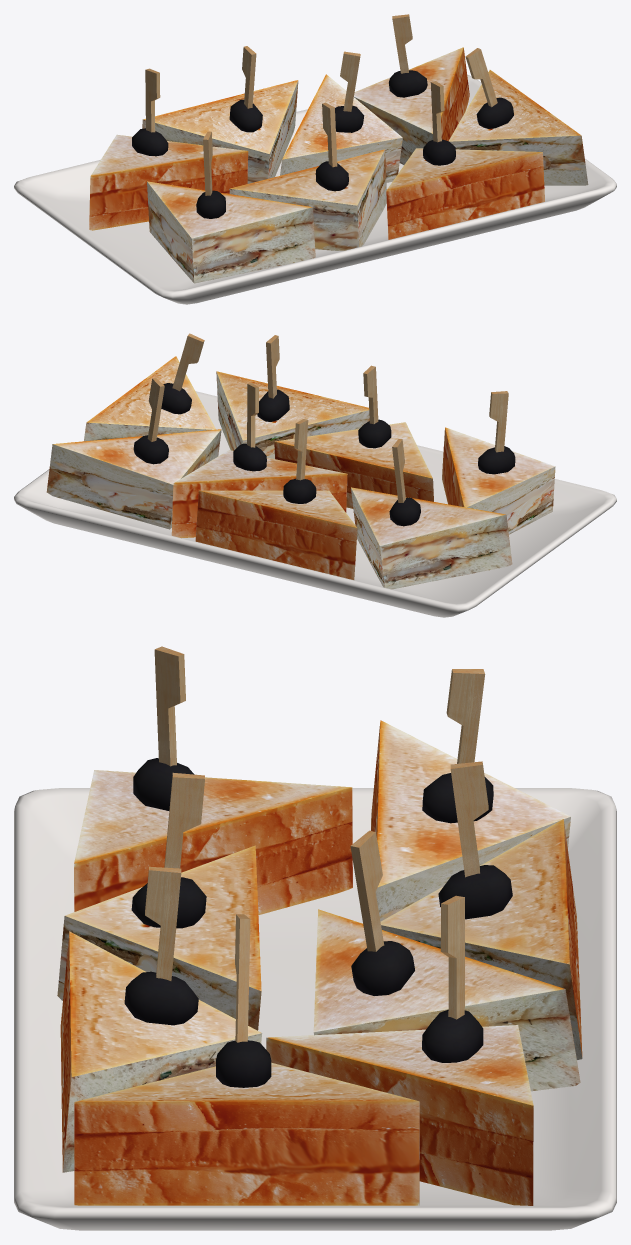
The model's file is BuffetSnacks01_1.FBX.
3 renders of one model, top to bottom at view 1: azimuth 30°, elevation 25°; view 2: azimuth 150°, elevation 25°; view 3: azimuth 270°, elevation 25°, orthographic. The views are drawn at different scales.
Parts seen in each view (by area): view 1: BuffetSnacks01_1; view 2: BuffetSnacks01_1; view 3: BuffetSnacks01_1.
Part boxes in pixels (box(x1,y1,x2,y2)): BuffetSnacks01_1: box(14, 14, 616, 304); BuffetSnacks01_1: box(14, 333, 616, 617); BuffetSnacks01_1: box(14, 646, 616, 1230).
Size of what is drawn, in the model's own units: 0.4959 by 0.142 by 0.2973.
